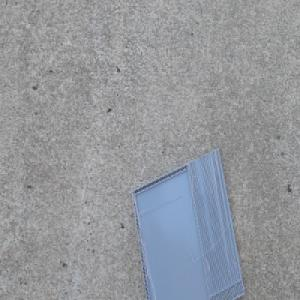PlasticPart: (130, 146, 245, 300)
